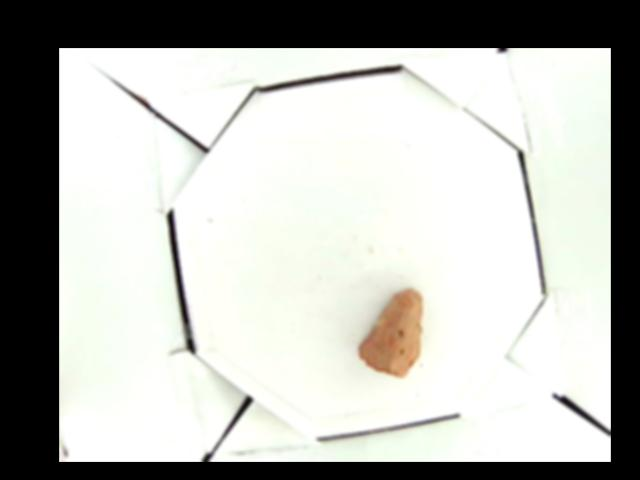Brisk: (358, 291, 421, 378)
